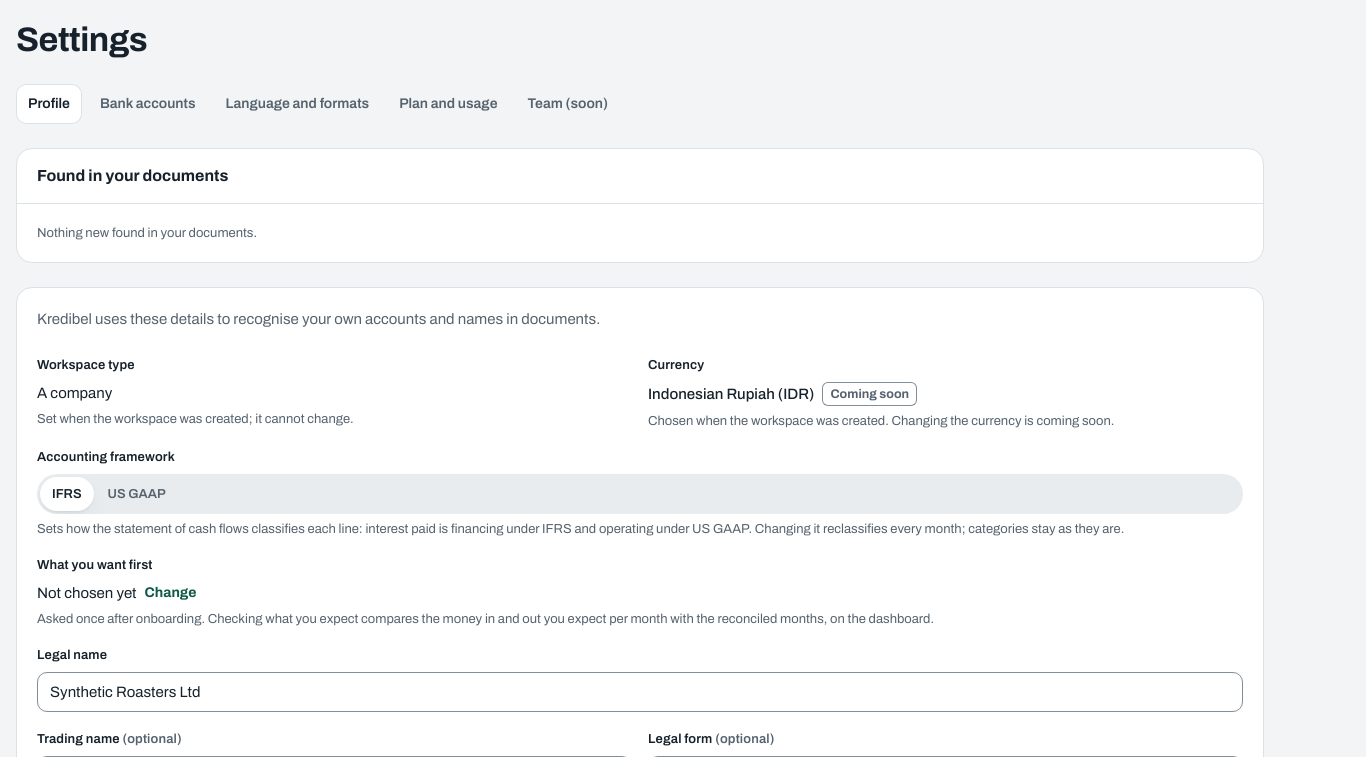
it: SettingsPage (AC-013-14…16) › renders Profile form, shows fixed type and masked tax ID, and saves changes (AC-013-14)
Expected: the text "A company" is shown, [37,385,112,401]
Step 1. Replace the text in the field labelled "Legal name" with "Updated Roasters Corp" → x=640, y=692, box [37,672,1243,712]
(page scrolled)
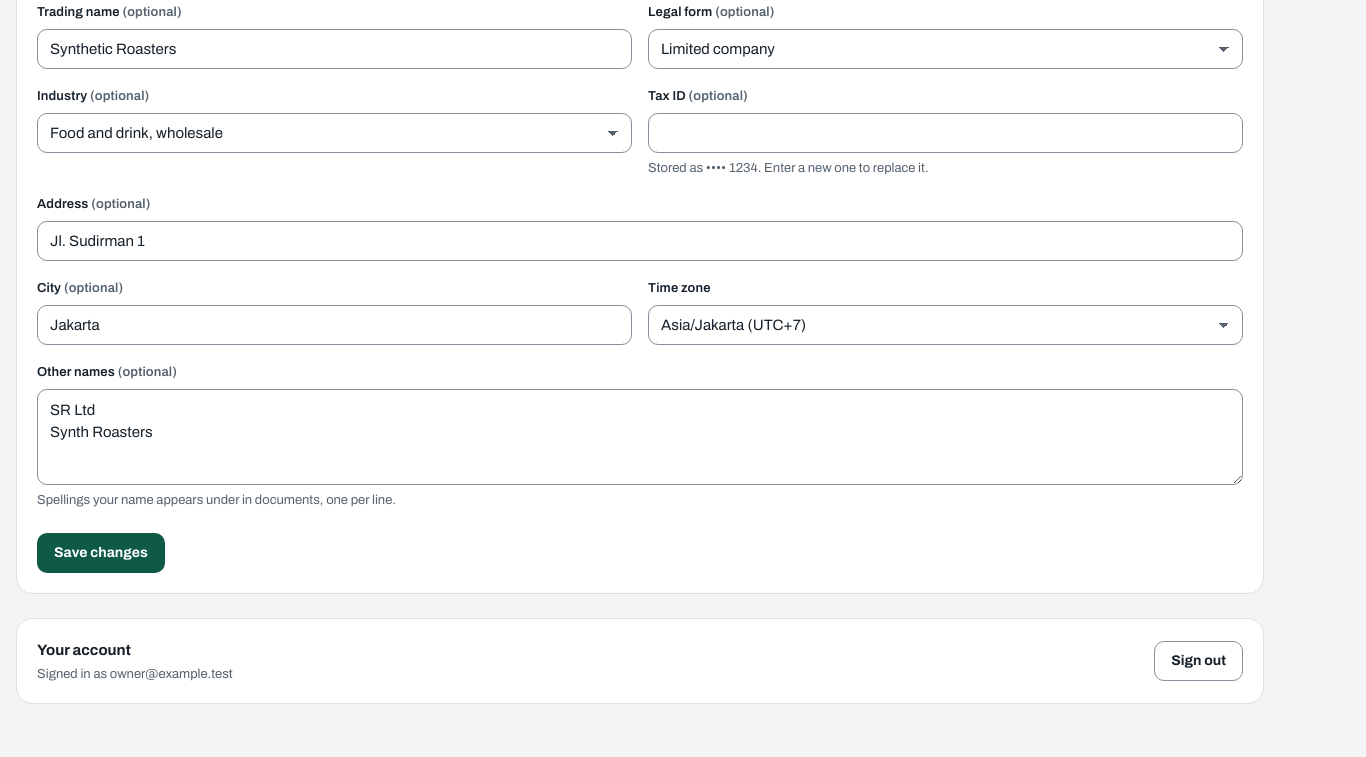
Step 2. Click the button "Save changes" → x=101, y=553, box [37,533,165,573]
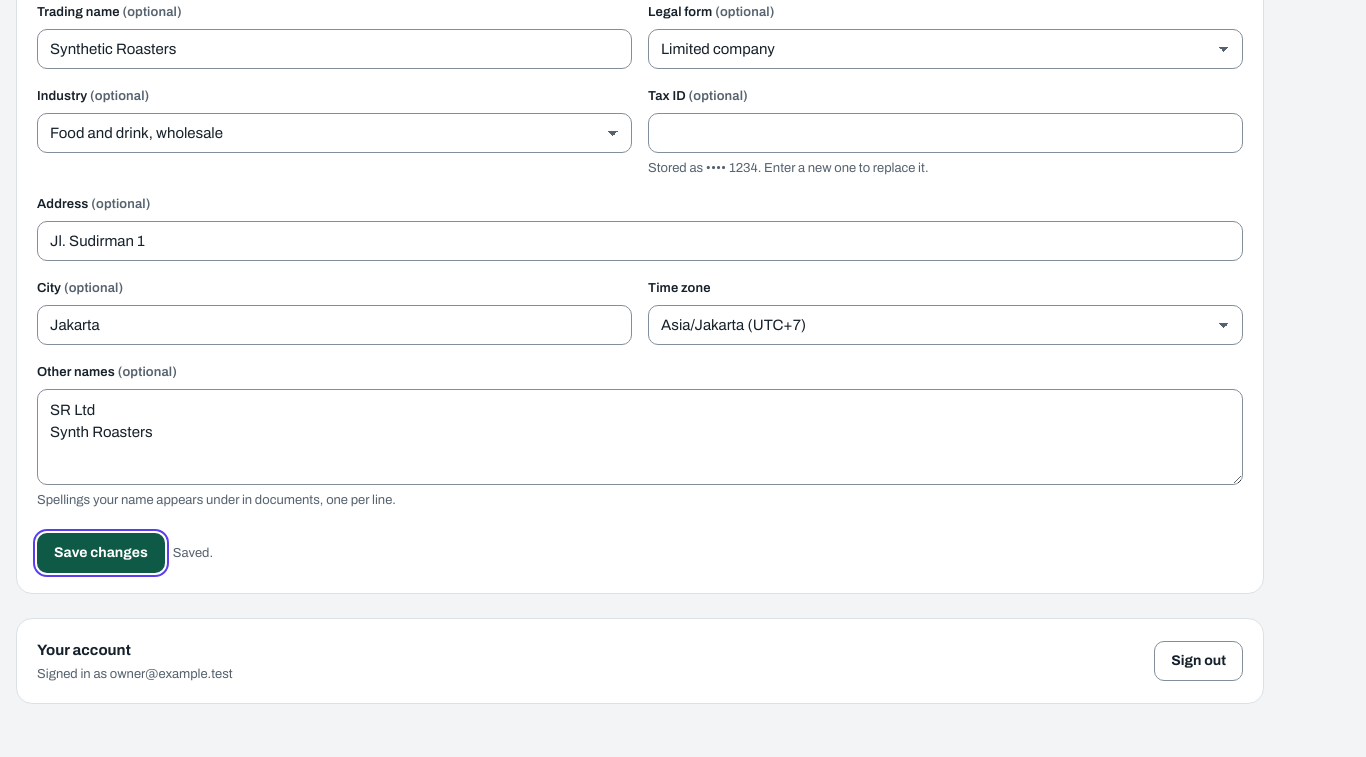
Now the text "Saved." is shown, box [173,544,213,562]
